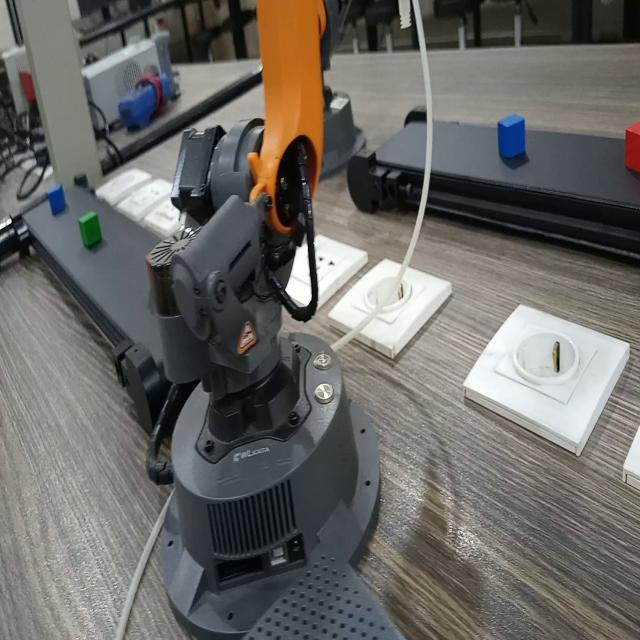cube: (494, 111, 531, 165), (621, 109, 640, 176), (78, 208, 104, 249), (45, 182, 68, 218)
